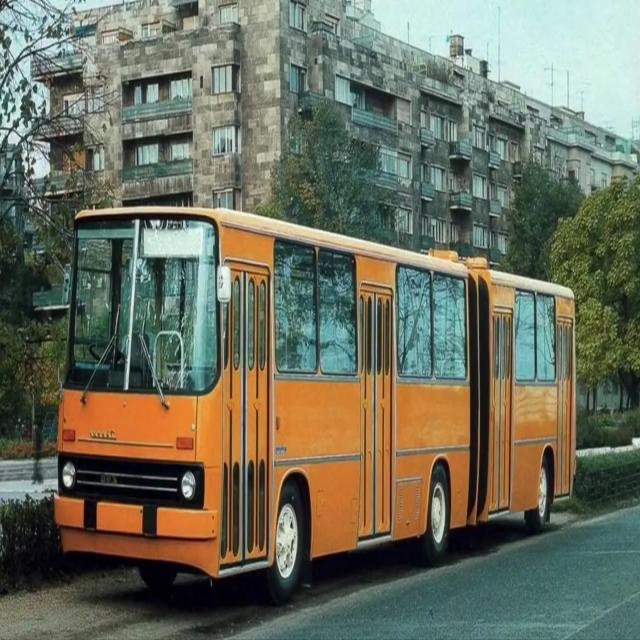bus: (51, 198, 577, 596)
